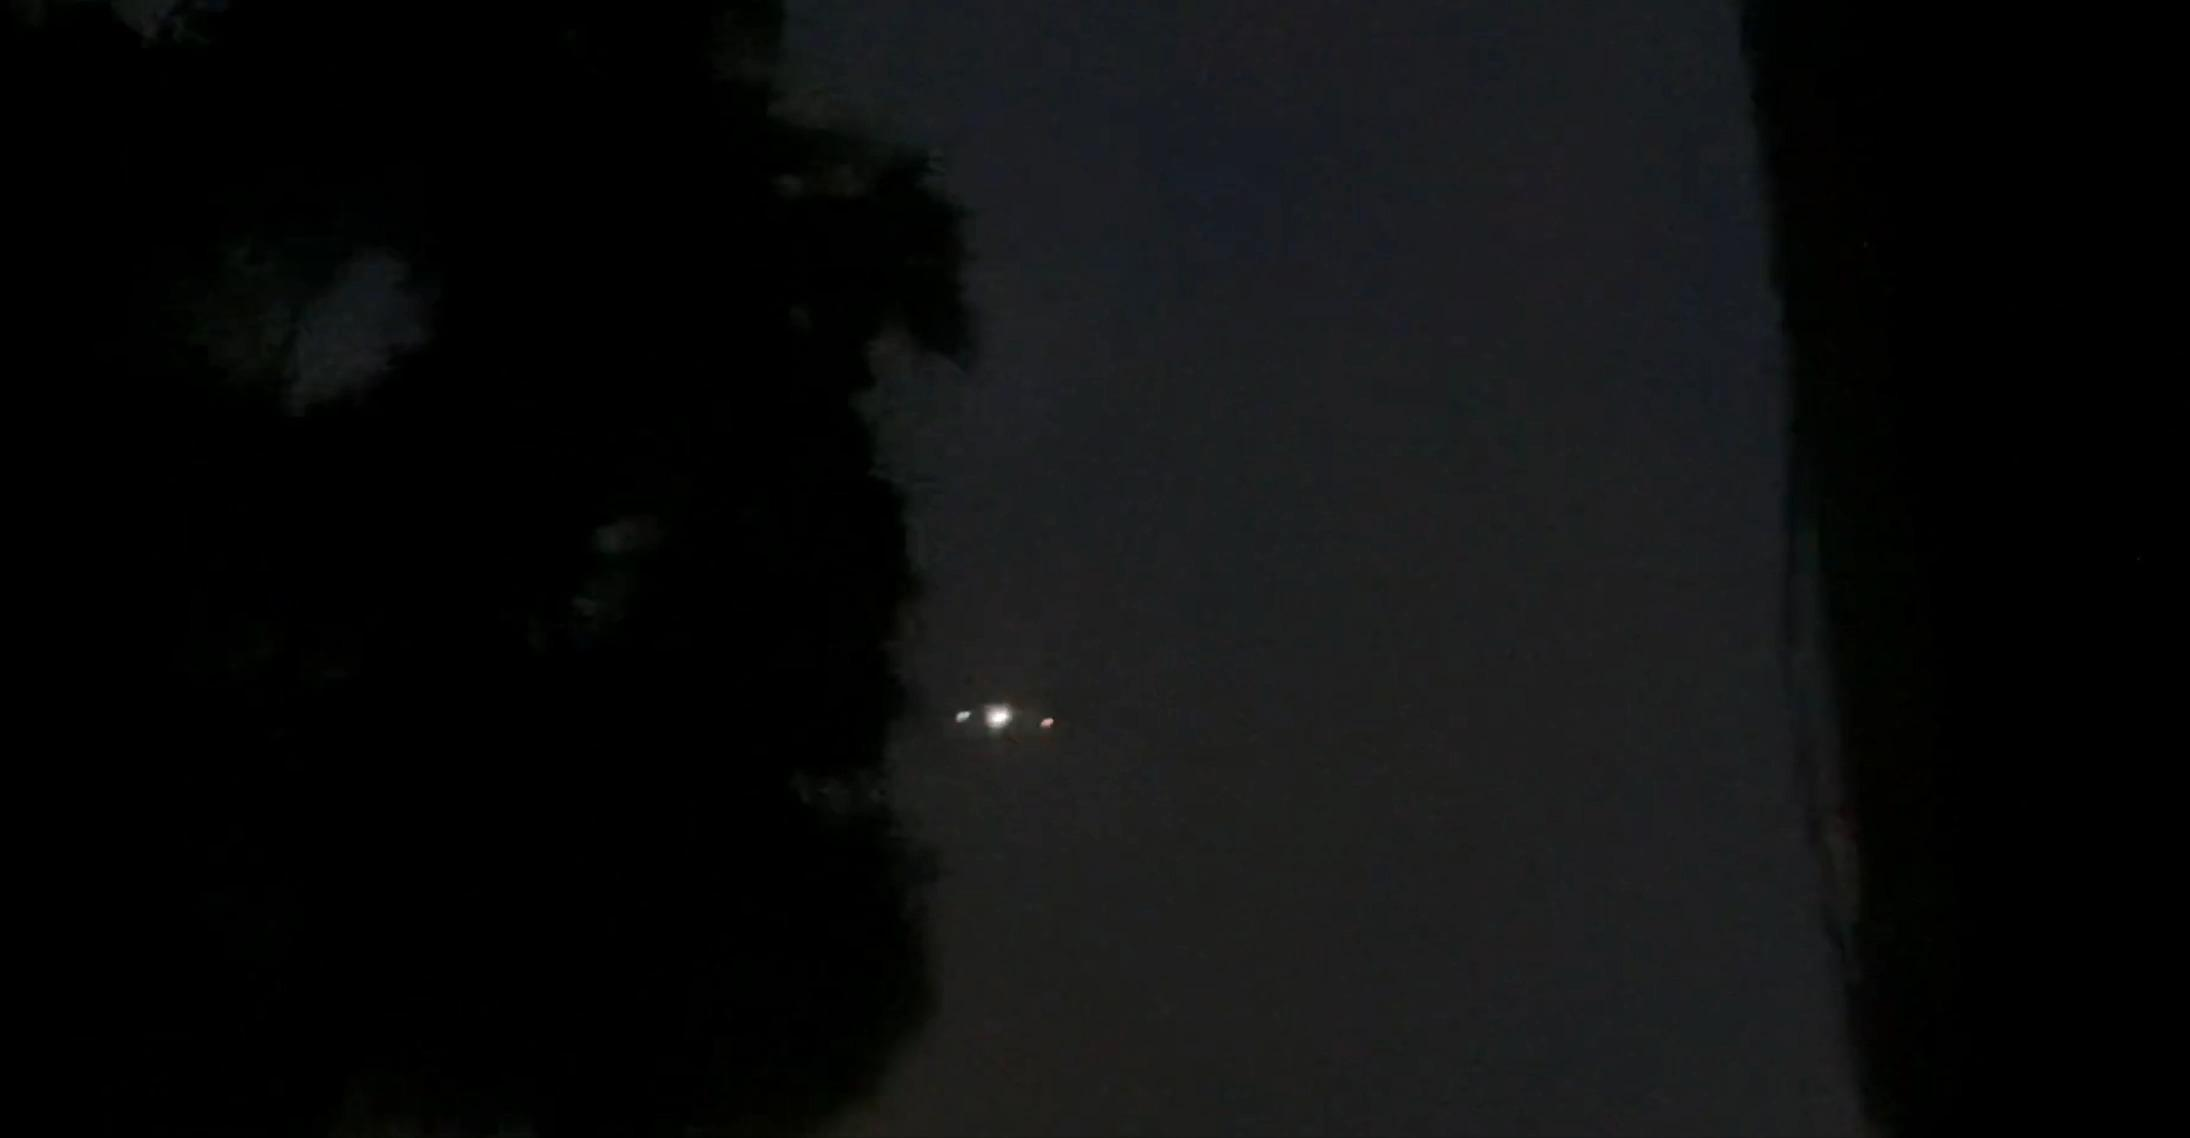Plane: (912, 636, 1083, 776)
